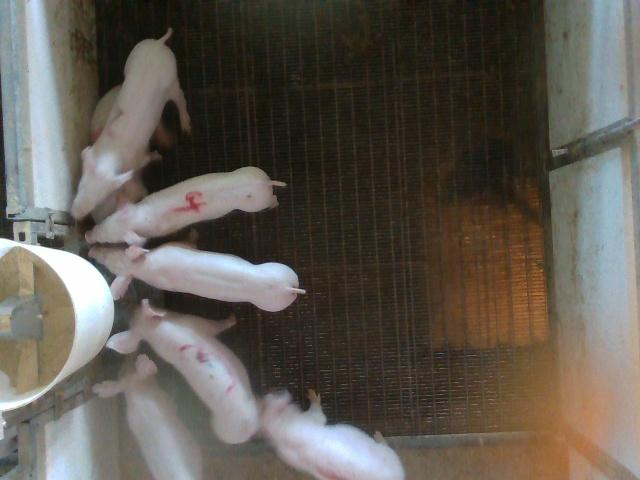pig-1: (261, 391, 405, 479)
pig-2: (71, 30, 190, 218)
pig-3: (106, 300, 259, 443)
pig-4: (86, 166, 285, 244)
